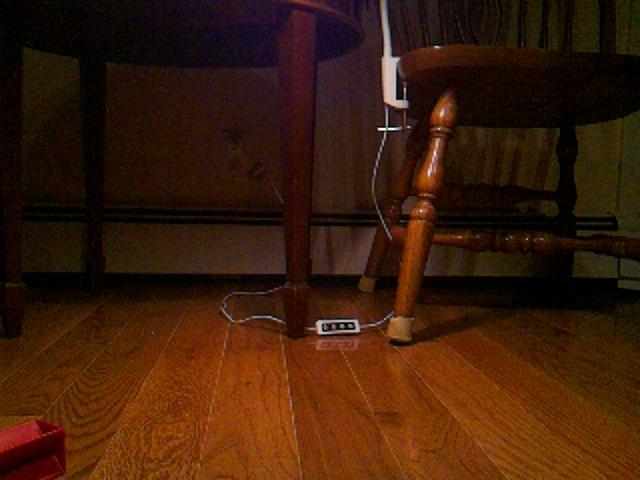red: (1, 415, 68, 480)
